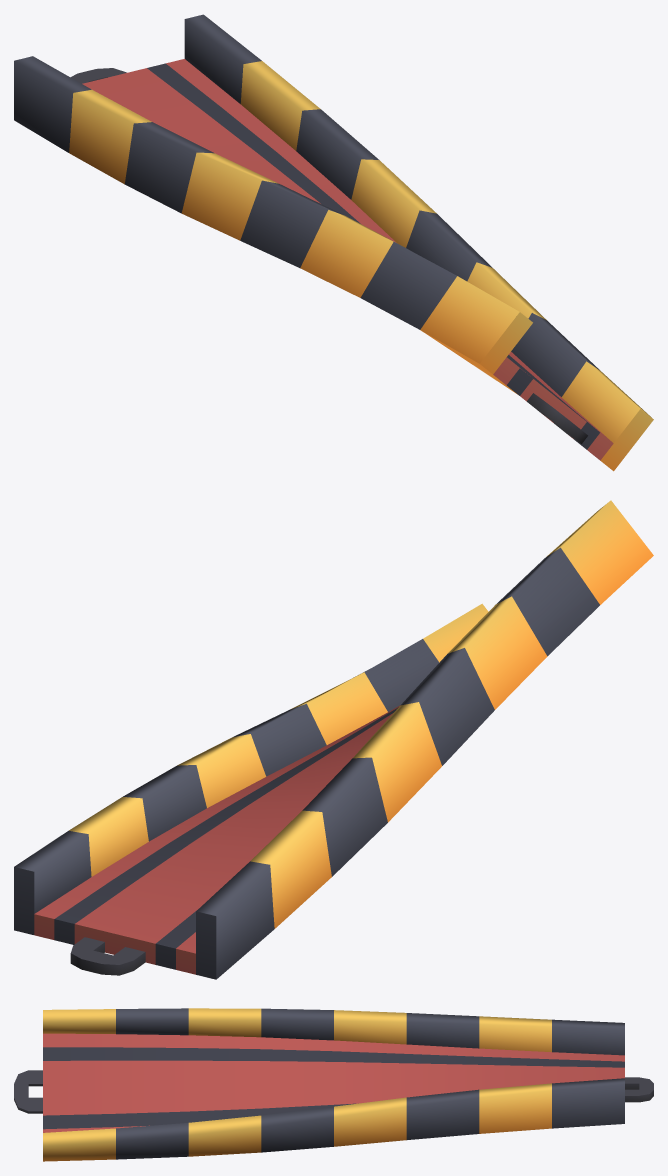
Rendered from track-road-narrow-straight-skew-left.fbx.
The picture shows the model from 3 angles, top to bottom: view 1: azimuth 30°, elevation 25°; view 2: azimuth 150°, elevation 25°; view 3: azimuth 270°, elevation 25°; orthographic projection. The views are drawn at different scales.
Parts seen in each view (by area): view 1: track-road-narrow-straight-skew-left; view 2: track-road-narrow-straight-skew-left; view 3: track-road-narrow-straight-skew-left.
Part boxes in pixels (x1=…): track-road-narrow-straight-skew-left: x1=14, y1=14, x2=653, y2=471; track-road-narrow-straight-skew-left: x1=14, y1=500, x2=653, y2=979; track-road-narrow-straight-skew-left: x1=14, y1=1008, x2=653, y2=1161.
Size of the model in its own units: 108 by 91.92 by 440.
